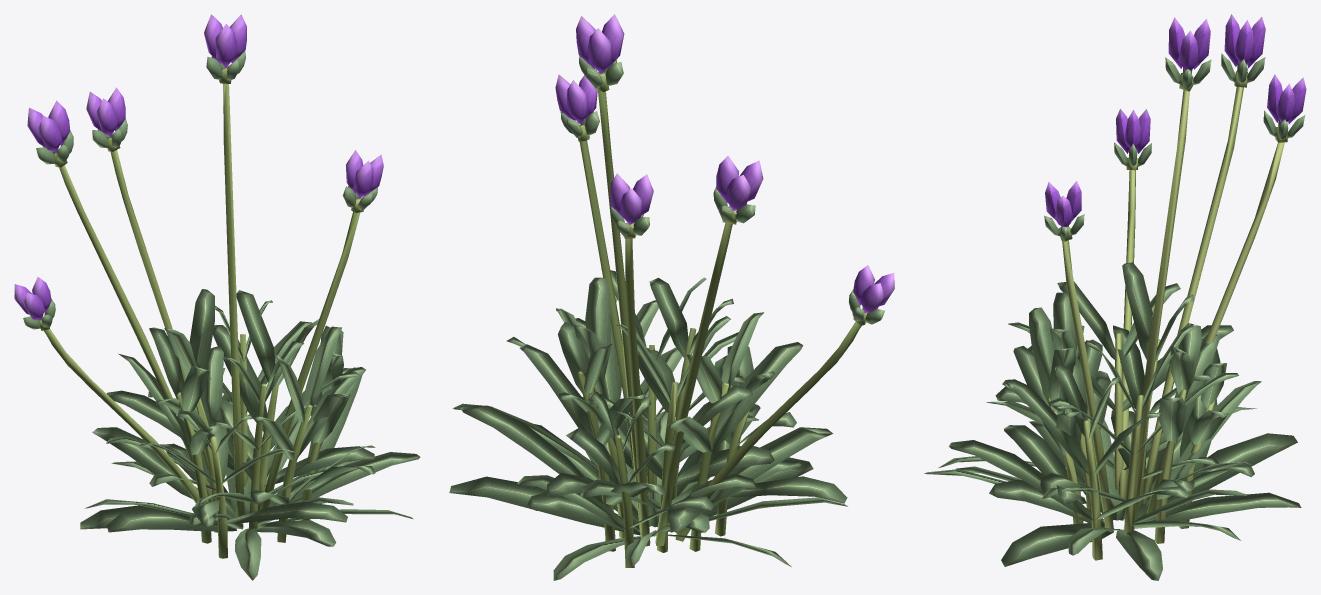
Rendered from NP_Lavender_BudForming_LOD1.fbx.
3 views of the same model, side by side, from view 1: azimuth 30°, elevation 25°; view 2: azimuth 150°, elevation 25°; view 3: azimuth 270°, elevation 25° (orthographic). The views are drawn at different scales.
Visible parts, largest first — view 1: NP_Lavender_BudForming; view 2: NP_Lavender_BudForming; view 3: NP_Lavender_BudForming.
Part boxes in pixels (x1,y1,x2,y2): NP_Lavender_BudForming: (14,14,420,580); NP_Lavender_BudForming: (449,14,894,580); NP_Lavender_BudForming: (924,14,1306,580).
Bounding box in the file's own units: 59.12 × 74.06 × 49.49.
1 material, 1 textured.
